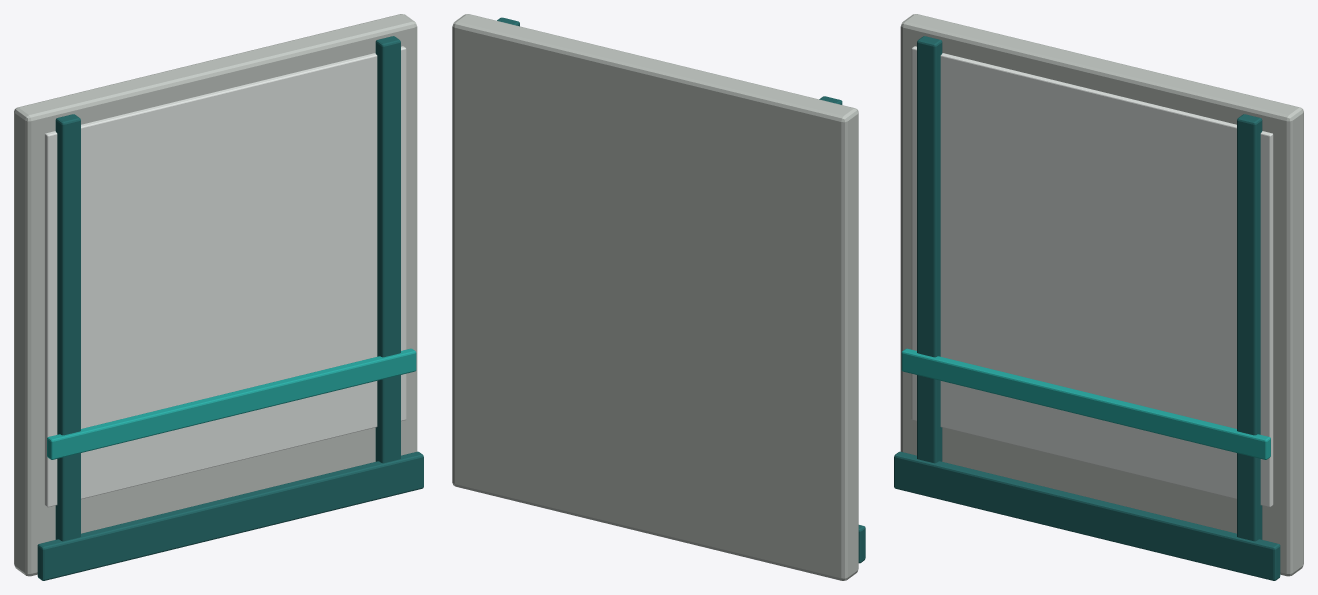
The model's file is MH02_Clinic_Wall_Module.glb.
3 renders of one model, left to right at view 1: azimuth 30°, elevation 25°; view 2: azimuth 150°, elevation 25°; view 3: azimuth 330°, elevation 25°, orthographic.
Visible parts, largest first — view 1: Wall_Face, Wall_Core, Base_Trim, Wall_Post_0.98, Wall_Post_-0.98, Lower_Rail; view 2: Wall_Core; view 3: Wall_Face, Wall_Core, Base_Trim, Wall_Post_-0.98, Wall_Post_0.98, Lower_Rail.
Boxes of the visible parts, x1,y1,x2,y2 form: Wall_Face: [44, 46, 406, 507]; Wall_Core: [14, 14, 417, 576]; Base_Trim: [37, 451, 423, 580]; Wall_Post_0.98: [375, 36, 400, 463]; Wall_Post_-0.98: [55, 114, 80, 541]; Lower_Rail: [47, 348, 416, 459]; Wall_Core: [452, 14, 858, 580]; Wall_Face: [911, 46, 1273, 507]; Wall_Core: [900, 14, 1303, 576]; Base_Trim: [894, 451, 1280, 580]; Wall_Post_-0.98: [917, 36, 942, 463]; Wall_Post_0.98: [1237, 114, 1262, 541]; Lower_Rail: [901, 348, 1270, 459].
Bounding box in the file's own units: 2.4 × 2.7 × 0.2775.
